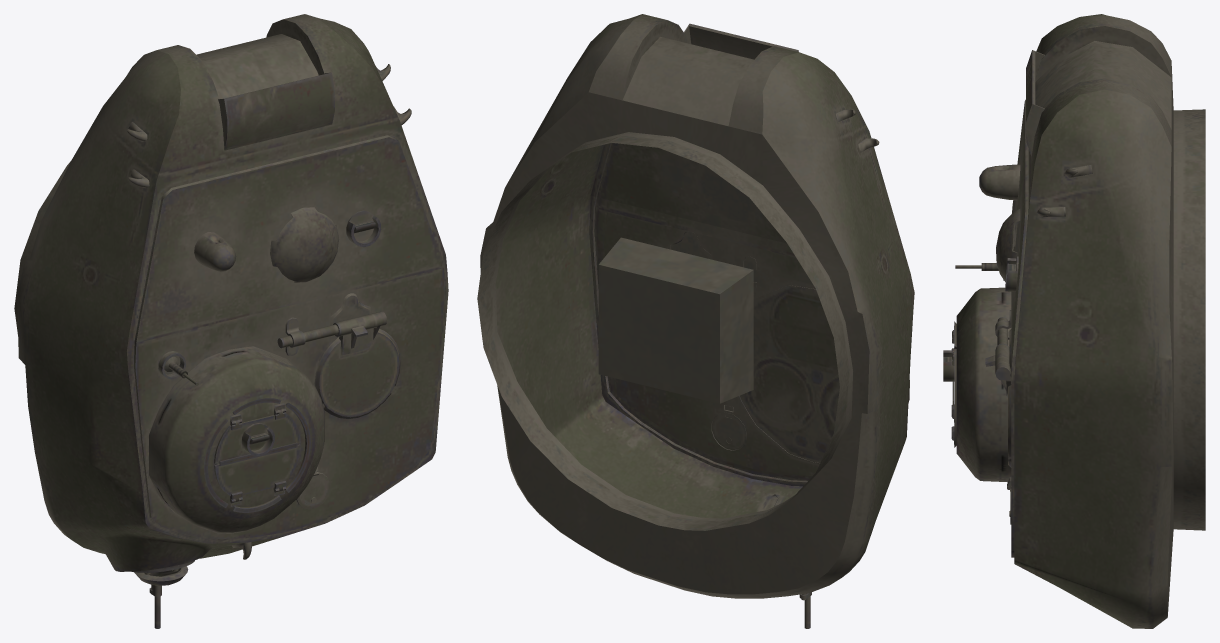
File: Turret_01.glb
The picture shows the model from 3 angles, left to right: view 1: azimuth 30°, elevation 25°; view 2: azimuth 150°, elevation 25°; view 3: azimuth 270°, elevation 25°; orthographic projection. The views are drawn at different scales.
Parts seen in each view (by area): view 1: set_0_group_0; view 2: set_0_group_0; view 3: set_0_group_0.
Part boxes in pixels (box(x1,y1,x2,y2)): set_0_group_0: box(14, 14, 448, 628); set_0_group_0: box(477, 14, 914, 628); set_0_group_0: box(943, 14, 1205, 628).
Size of the model in its own units: 2.28 by 3.18 by 1.3.
1 material, 1 textured.
